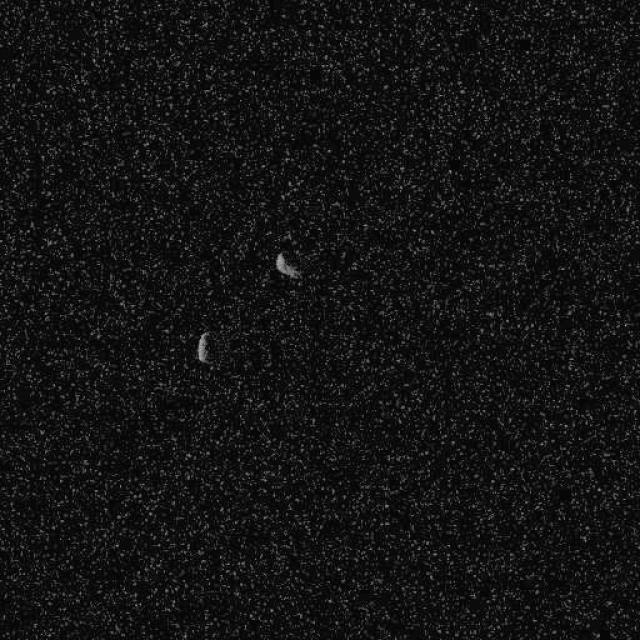D2: (274, 250, 301, 280), (195, 330, 213, 365)
